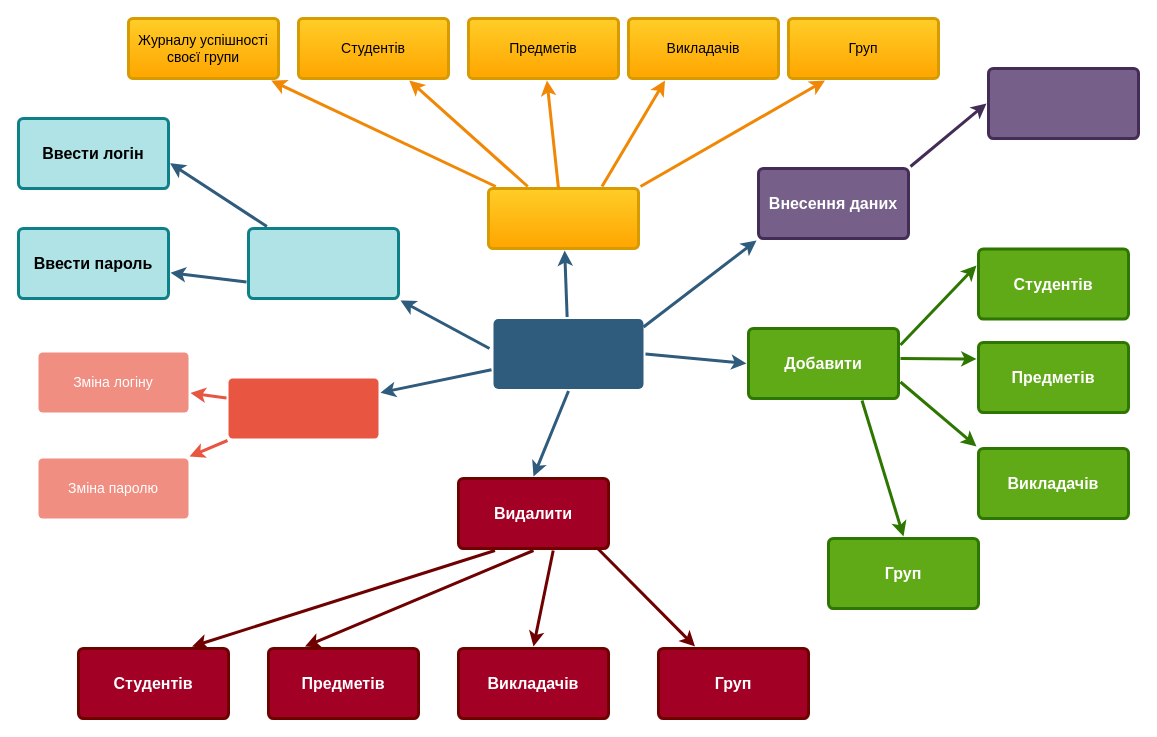
Image size: 1157x737. Some labels were removed from this diagram. Each missing label, with the centre of its shape:
"Вхід до системи" belongs at pixel 323 263.
"ЗавКафедри" belongs at pixel 568 353.
"Змінна даних" belongs at pixel 303 408.
"Оцінок з дисциплін які викладають" belongs at pixel 1063 103.
"Перегляд" belongs at pixel 563 218.
